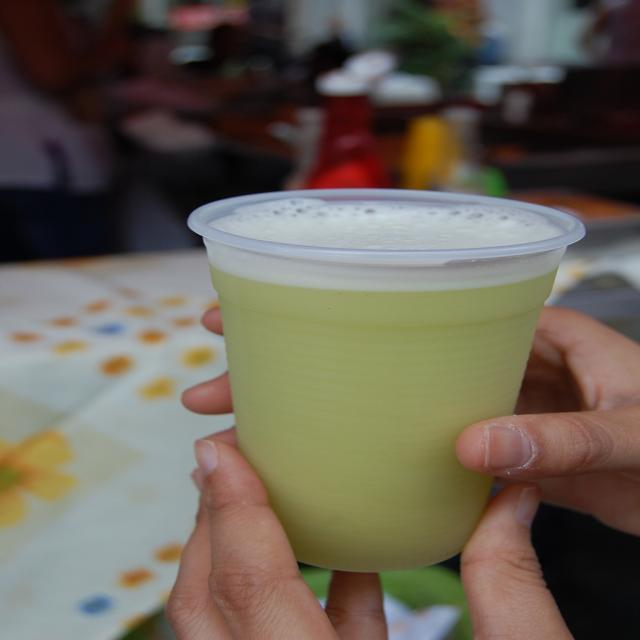Juice: (181, 192, 576, 568)
